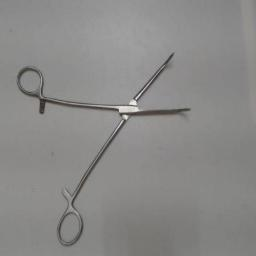Lahey Forceps: (12, 44, 194, 248)
